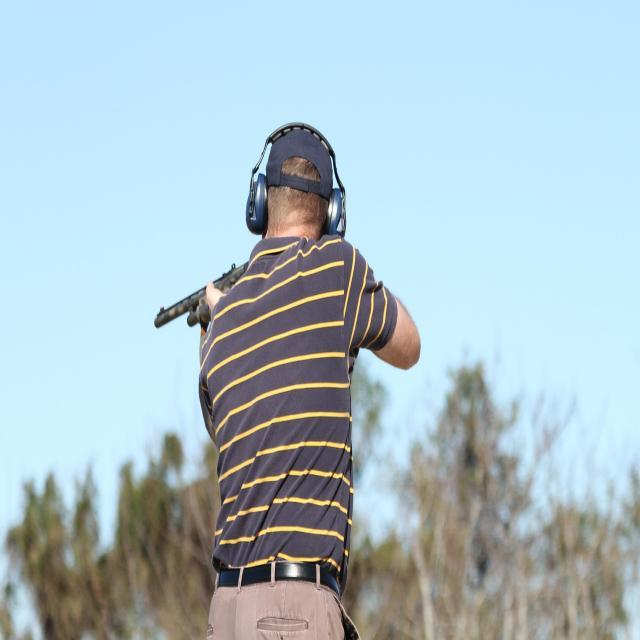Gun: (154, 288, 210, 328), (214, 262, 248, 291)
